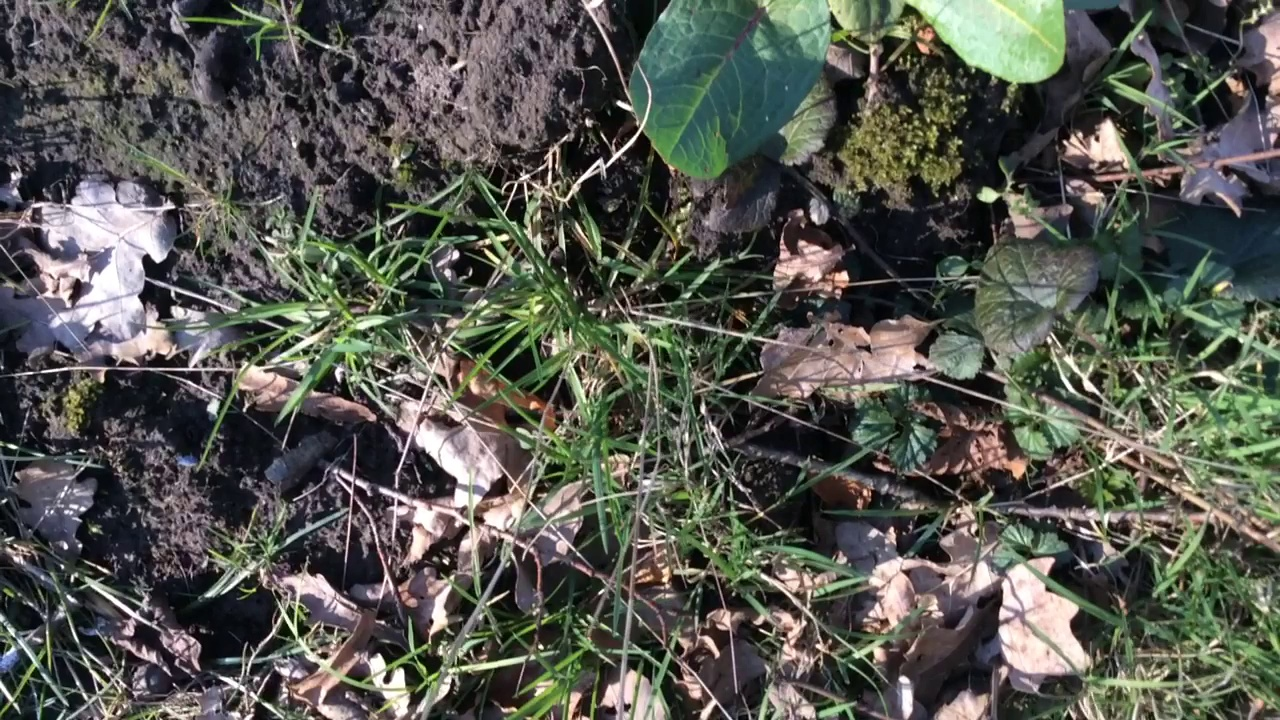rumex: (629, 1, 1066, 180)
